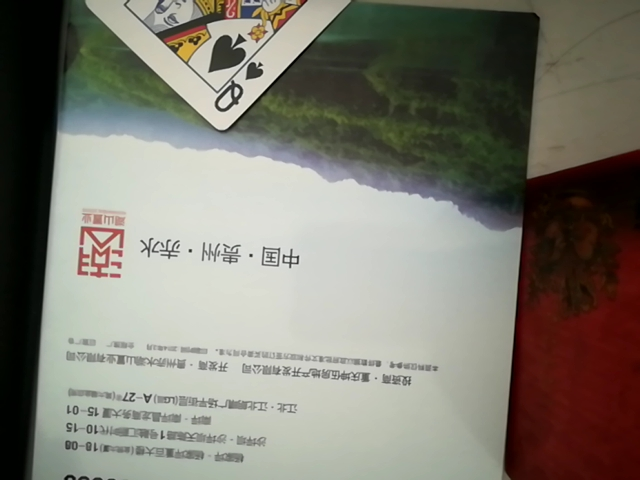ht q: (74, 0, 393, 141)
